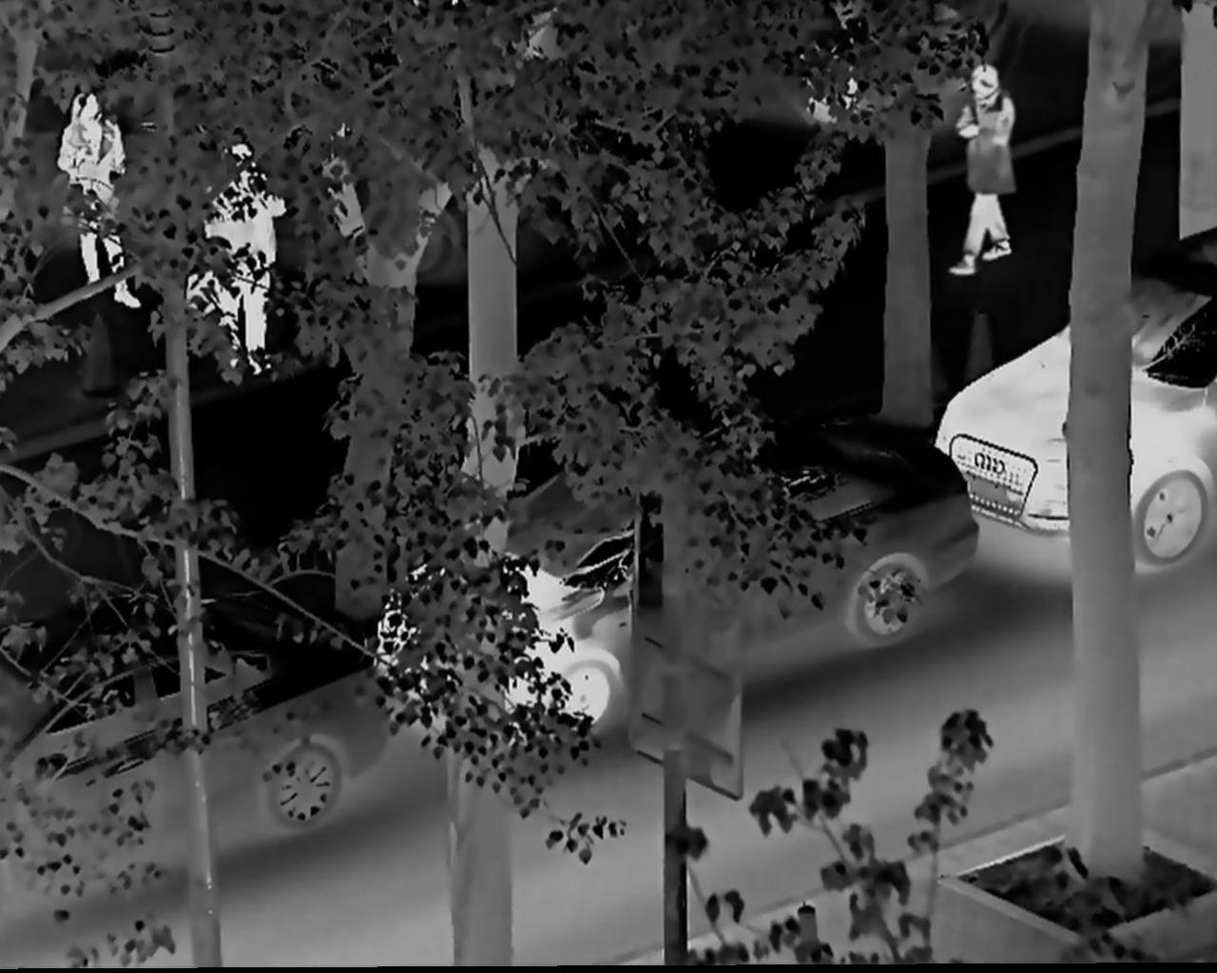person: (194, 134, 293, 385), (42, 86, 146, 319), (948, 61, 1024, 288)
